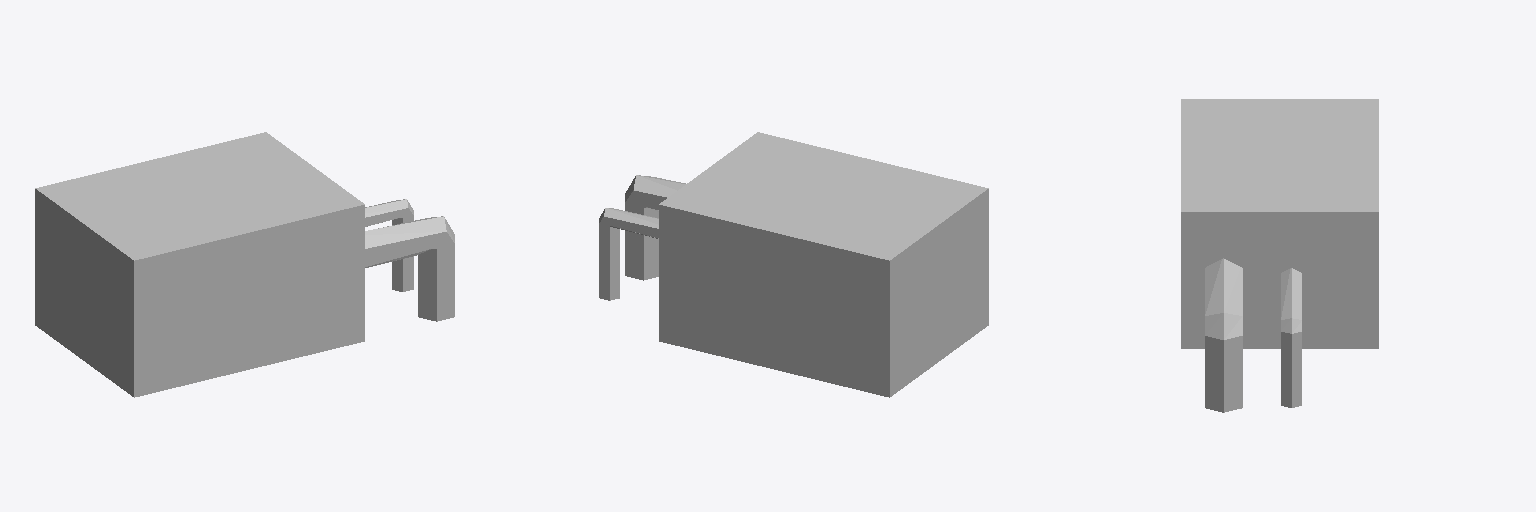
The model's file is Props_Roof prop air.obj.
3 renders of one model, left to right at view 1: azimuth 30°, elevation 25°; view 2: azimuth 150°, elevation 25°; view 3: azimuth 270°, elevation 25°, orthographic.
Visible parts, largest first — view 1: Props_Roof_prop_air; view 2: Props_Roof_prop_air; view 3: Props_Roof_prop_air.
Part boxes in pixels (x1,y1,x2,y2): Props_Roof_prop_air: (35,132,454,397); Props_Roof_prop_air: (599,132,988,397); Props_Roof_prop_air: (1181,99,1378,412).
Bounding box in the file's own units: 111 × 45.4 × 55.62.